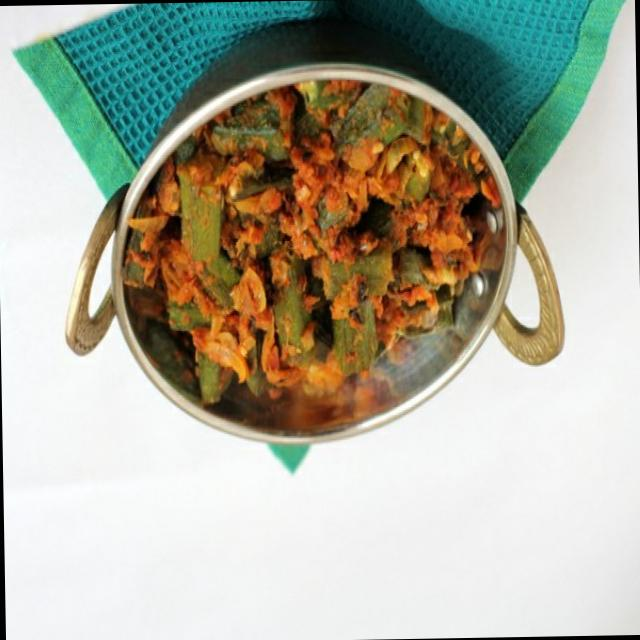BhindiMasala: (119, 76, 504, 405)
